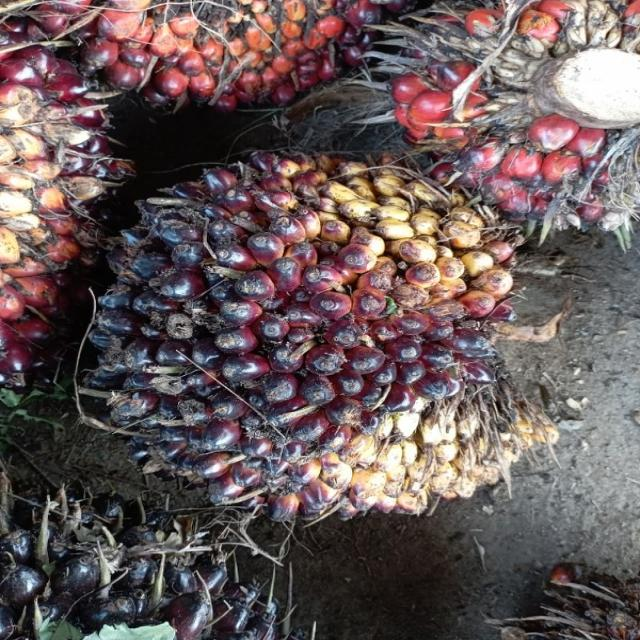fraksi 1: (86, 150, 572, 515)
fraksi 3: (397, 0, 640, 223)
